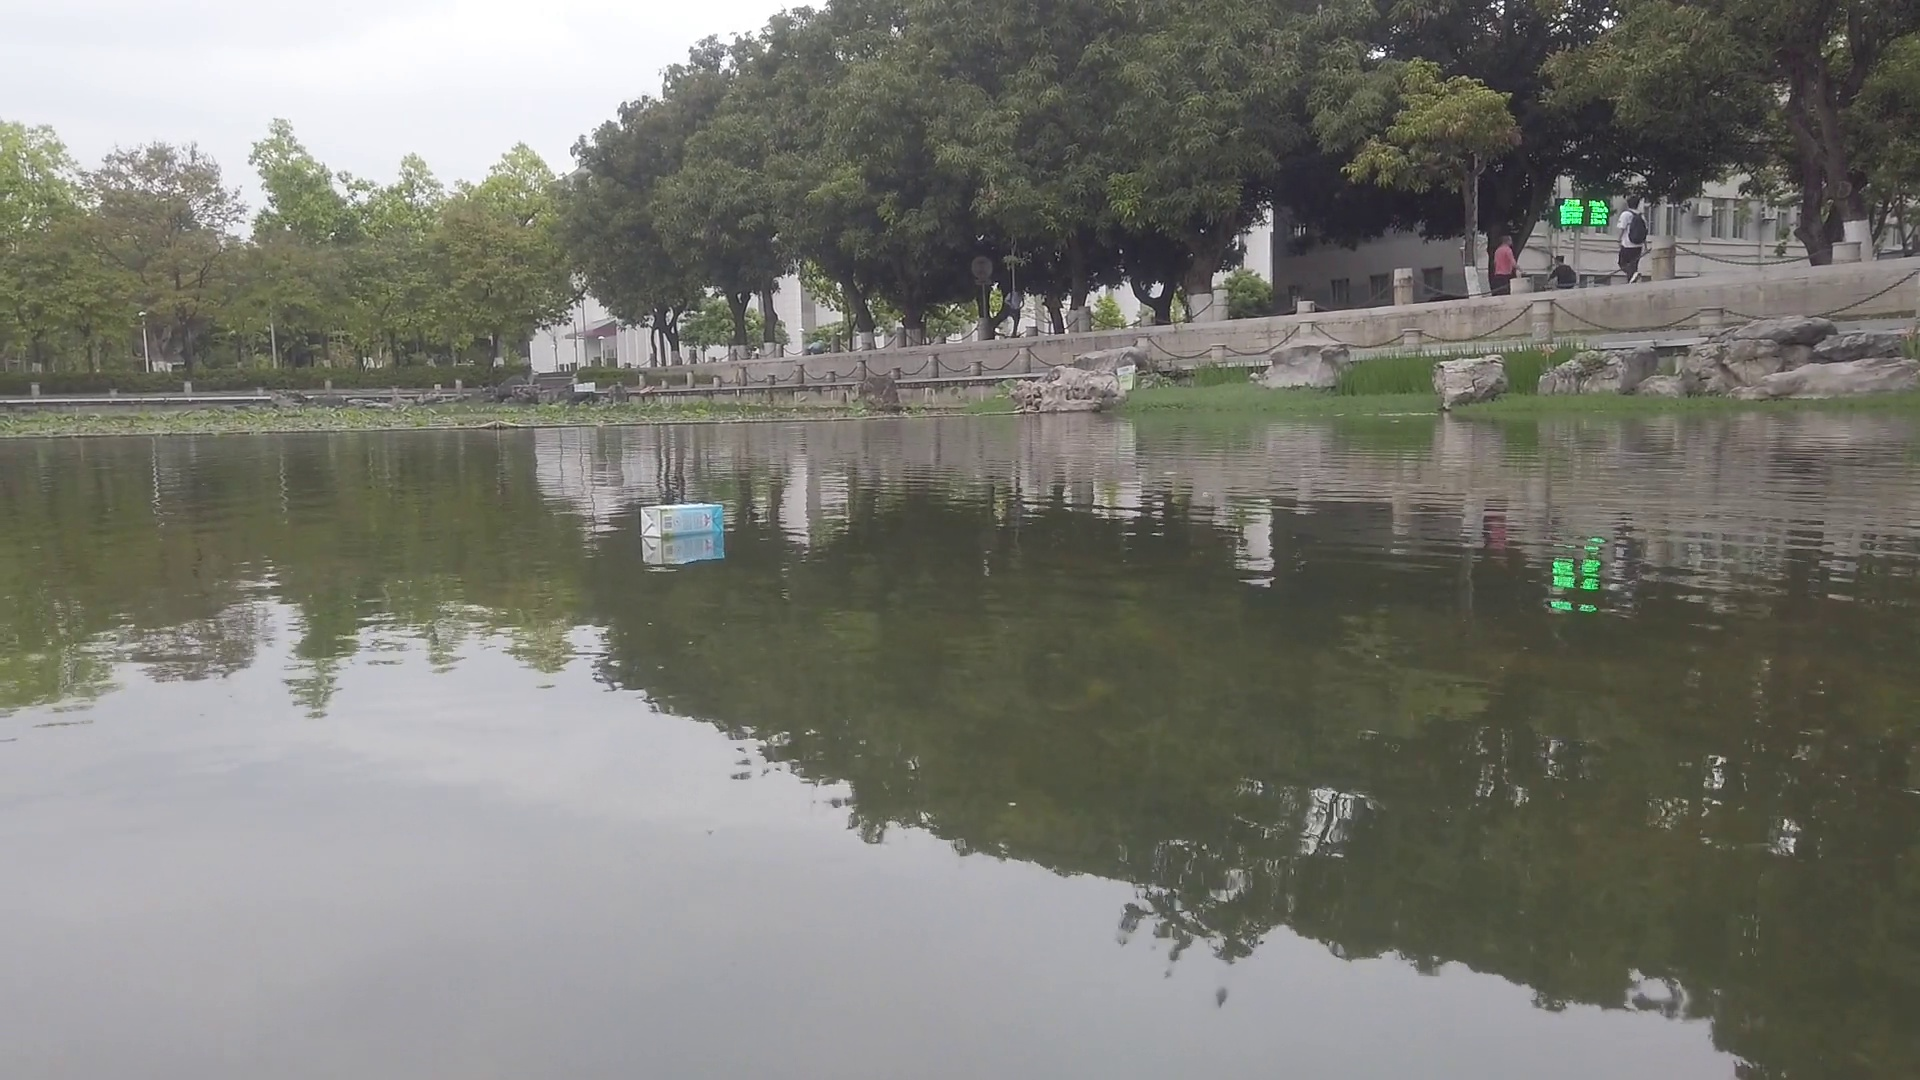carton: (640, 505, 723, 533)
